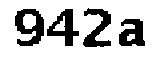2: (83, 8, 116, 50)
4: (45, 7, 80, 51)
9: (12, 4, 46, 49)
a: (116, 17, 152, 50)
